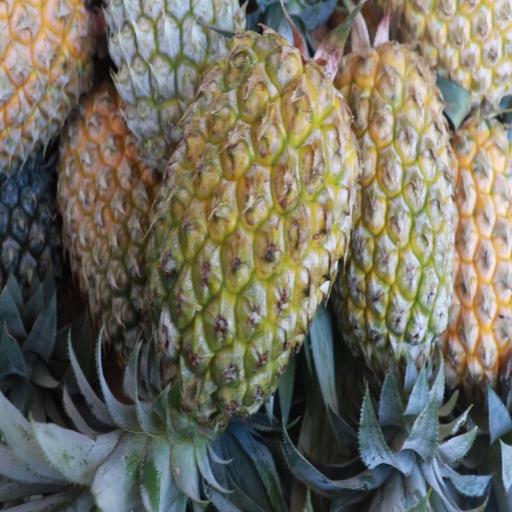------------------------------: (54, 94, 149, 334)
Pineapple - v8 v1: (149, 46, 352, 402), (338, 55, 450, 361), (439, 118, 512, 372)
